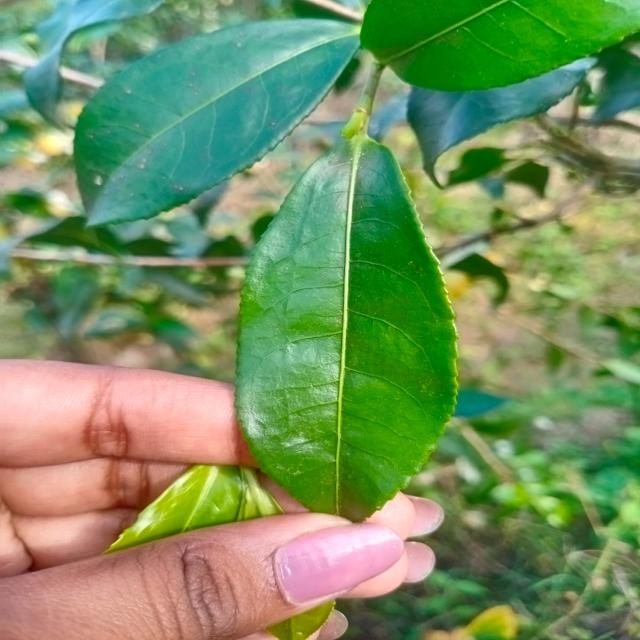Category D(7+ days, Not for Tea): (201, 122, 503, 559)
